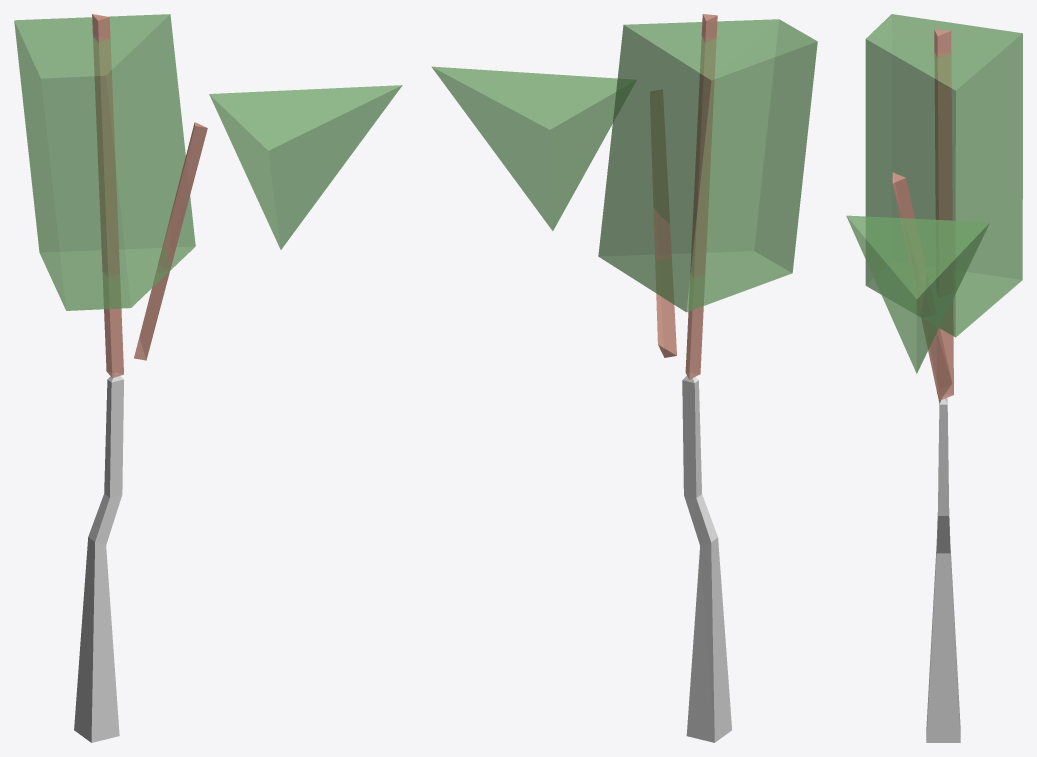
3 views of the same model, side by side, from view 1: azimuth 30°, elevation 25°; view 2: azimuth 150°, elevation 25°; view 3: azimuth 270°, elevation 25° (orthographic).
Parts seen in each view (by area): view 1: Colmesh-1; view 2: Colmesh-1; view 3: Colmesh-1.
Part boxes in pixels (bbox=[...]): Colmesh-1: bbox=[14, 14, 402, 742]; Colmesh-1: bbox=[431, 14, 817, 742]; Colmesh-1: bbox=[846, 14, 1022, 742].
Bounding box in the file's own units: 8.82 × 3.66 × 16.13.
